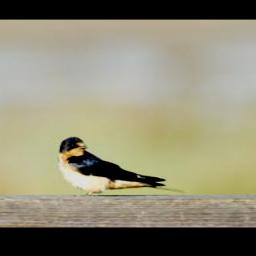Swallow: (57, 136, 187, 198)
